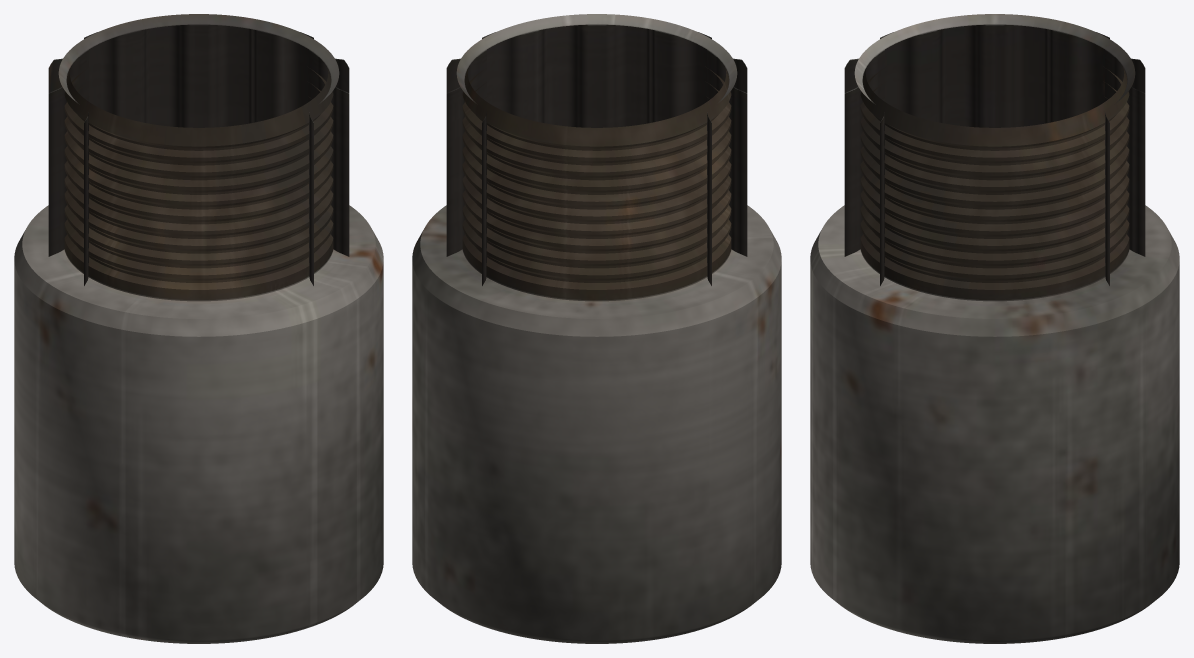
The model's file is SM_DriverSub_6po.glb.
3 views of the same model, side by side, from view 1: azimuth 30°, elevation 25°; view 2: azimuth 150°, elevation 25°; view 3: azimuth 270°, elevation 25° (orthographic).
Visible parts, largest first — view 1: DriverSub_6po; view 2: DriverSub_6po; view 3: DriverSub_6po.
Boxes of the visible parts, x1=… form: DriverSub_6po: x1=14, y1=14, x2=383, y2=643; DriverSub_6po: x1=412, y1=14, x2=781, y2=643; DriverSub_6po: x1=810, y1=14, x2=1179, y2=643.
Bounding box in the file's own units: 0.139 × 0.2059 × 0.139.
Materials: 1 (1 with a texture image).
